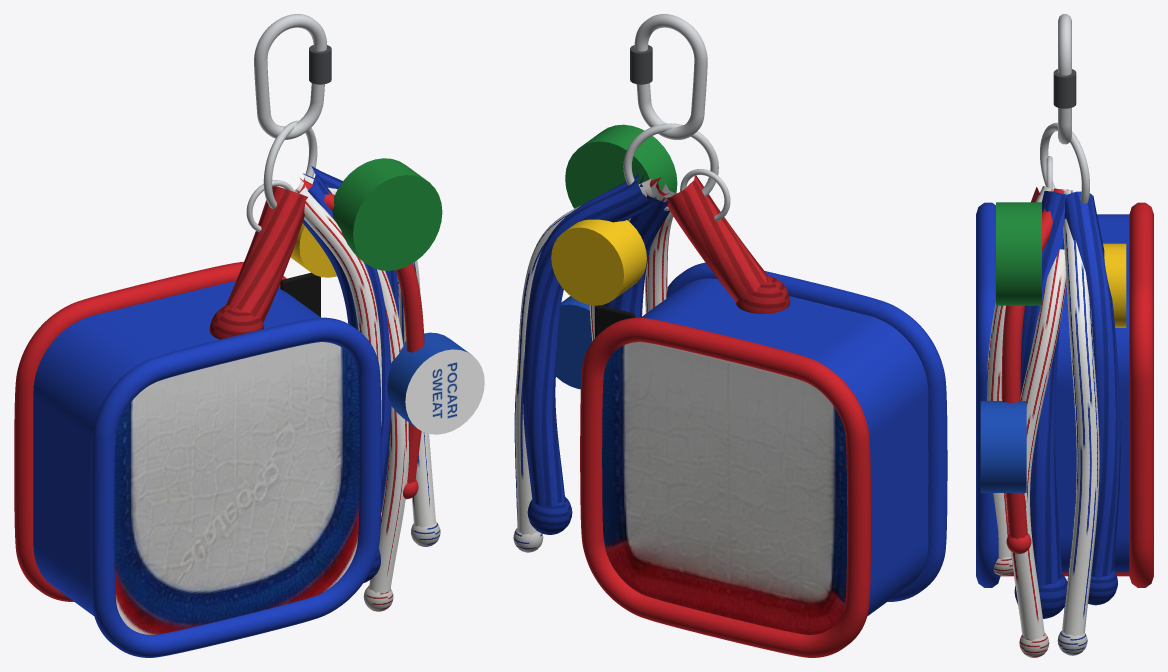
File: keychain.glb
3 renders of one model, left to right at view 1: azimuth 30°, elevation 25°; view 2: azimuth 150°, elevation 25°; view 3: azimuth 270°, elevation 25°, orthographic.
Visible parts, largest first — view 1: Body_Shell, Body_Shell_Edge, Trim_Blue_Front, Trim_Red_Back, Accessory_BottleCap_Green, Accessory_BottleCap_Blue, Cord_Red_Braid, Cord_Red_Pattern, Hardware_Carabiner, Cord_Red_Pattern2, Cord_Blue_Braid, Cord_Red_Thin (+5 smaller); view 2: Body_Shell_Back, Body_Shell_Edge, Trim_Red_Back, Cord_Blue_Braid2, Trim_Blue_Front, Accessory_BottleCap_Yellow, Accessory_BottleCap_Green, Cord_Red_Braid, Hardware_Carabiner, Cord_Blue_Pattern, Accessory_BottleCap_Blue, Cord_Knot (×2) (+4 smaller); view 3: Trim_Red_Back, Cord_Blue_Pattern, Cord_Blue_Braid2, Body_Shell_Edge, Cord_Blue_Braid, Cord_Red_Pattern, Trim_Blue_Front, Accessory_BottleCap_Green, Accessory_BottleCap_Blue, Cord_Knot (×6), Cord_Red_Thin, Cord_Red_Pattern2 (+3 smaller).
Boxes of the visible parts, x1,y1,x2,y2 form: Body_Shell: [114, 342, 359, 634]; Body_Shell_Edge: [33, 280, 320, 615]; Trim_Blue_Front: [90, 317, 381, 657]; Trim_Red_Back: [14, 262, 286, 601]; Accessory_BottleCap_Green: [332, 158, 442, 270]; Accessory_BottleCap_Blue: [387, 332, 484, 434]; Cord_Red_Braid: [225, 186, 307, 322]; Cord_Red_Pattern: [294, 177, 408, 593]; Hardware_Carabiner: [254, 14, 331, 139]; Cord_Red_Pattern2: [299, 185, 381, 425]; Cord_Blue_Braid: [302, 173, 391, 512]; Cord_Red_Thin: [298, 179, 424, 483]; Body_Shell_Back: [602, 342, 847, 634]; Body_Shell_Edge: [641, 278, 928, 615]; Trim_Red_Back: [580, 317, 870, 657]; Cord_Blue_Braid2: [523, 174, 654, 507]; Trim_Blue_Front: [666, 262, 947, 601]; Accessory_BottleCap_Yellow: [551, 219, 646, 305]; Accessory_BottleCap_Green: [565, 124, 677, 208]; Cord_Red_Braid: [666, 175, 768, 302]; Hardware_Carabiner: [630, 14, 707, 139]; Cord_Blue_Pattern: [514, 178, 658, 534]; Accessory_BottleCap_Blue: [556, 296, 592, 389]; Cord_Knot (×2): [527, 276, 790, 534]; Trim_Red_Back: [1129, 202, 1153, 587]; Cord_Blue_Pattern: [1062, 189, 1099, 636]; Cord_Blue_Braid2: [1064, 191, 1120, 578]; Body_Shell_Edge: [1001, 214, 1129, 576]; Cord_Blue_Braid: [1020, 191, 1067, 587]; Cord_Red_Pattern: [1008, 189, 1070, 640]; Trim_Blue_Front: [976, 202, 1000, 587]; Accessory_BottleCap_Green: [996, 202, 1041, 305]; Accessory_BottleCap_Blue: [980, 401, 1026, 492]; Cord_Knot (×6): [993, 533, 1117, 657]; Cord_Red_Thin: [1001, 188, 1064, 538]; Cord_Red_Pattern2: [987, 186, 1053, 558].
Bounding box in the file's own units: 0.1174 × 0.1736 × 0.0464.
Materials: 22 (12 with a texture image).
